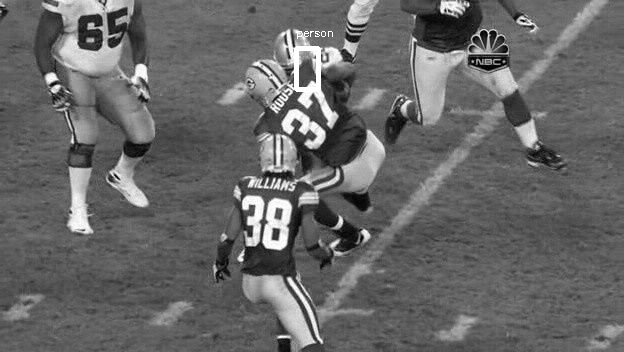person: (276, 37, 309, 79), (275, 37, 308, 79), (277, 37, 310, 79), (276, 36, 309, 78), (276, 38, 309, 80)
target_negative: (314, 265, 563, 300), (483, 103, 555, 204), (134, 113, 205, 165), (54, 328, 380, 335), (488, 122, 504, 247), (225, 257, 276, 276)
